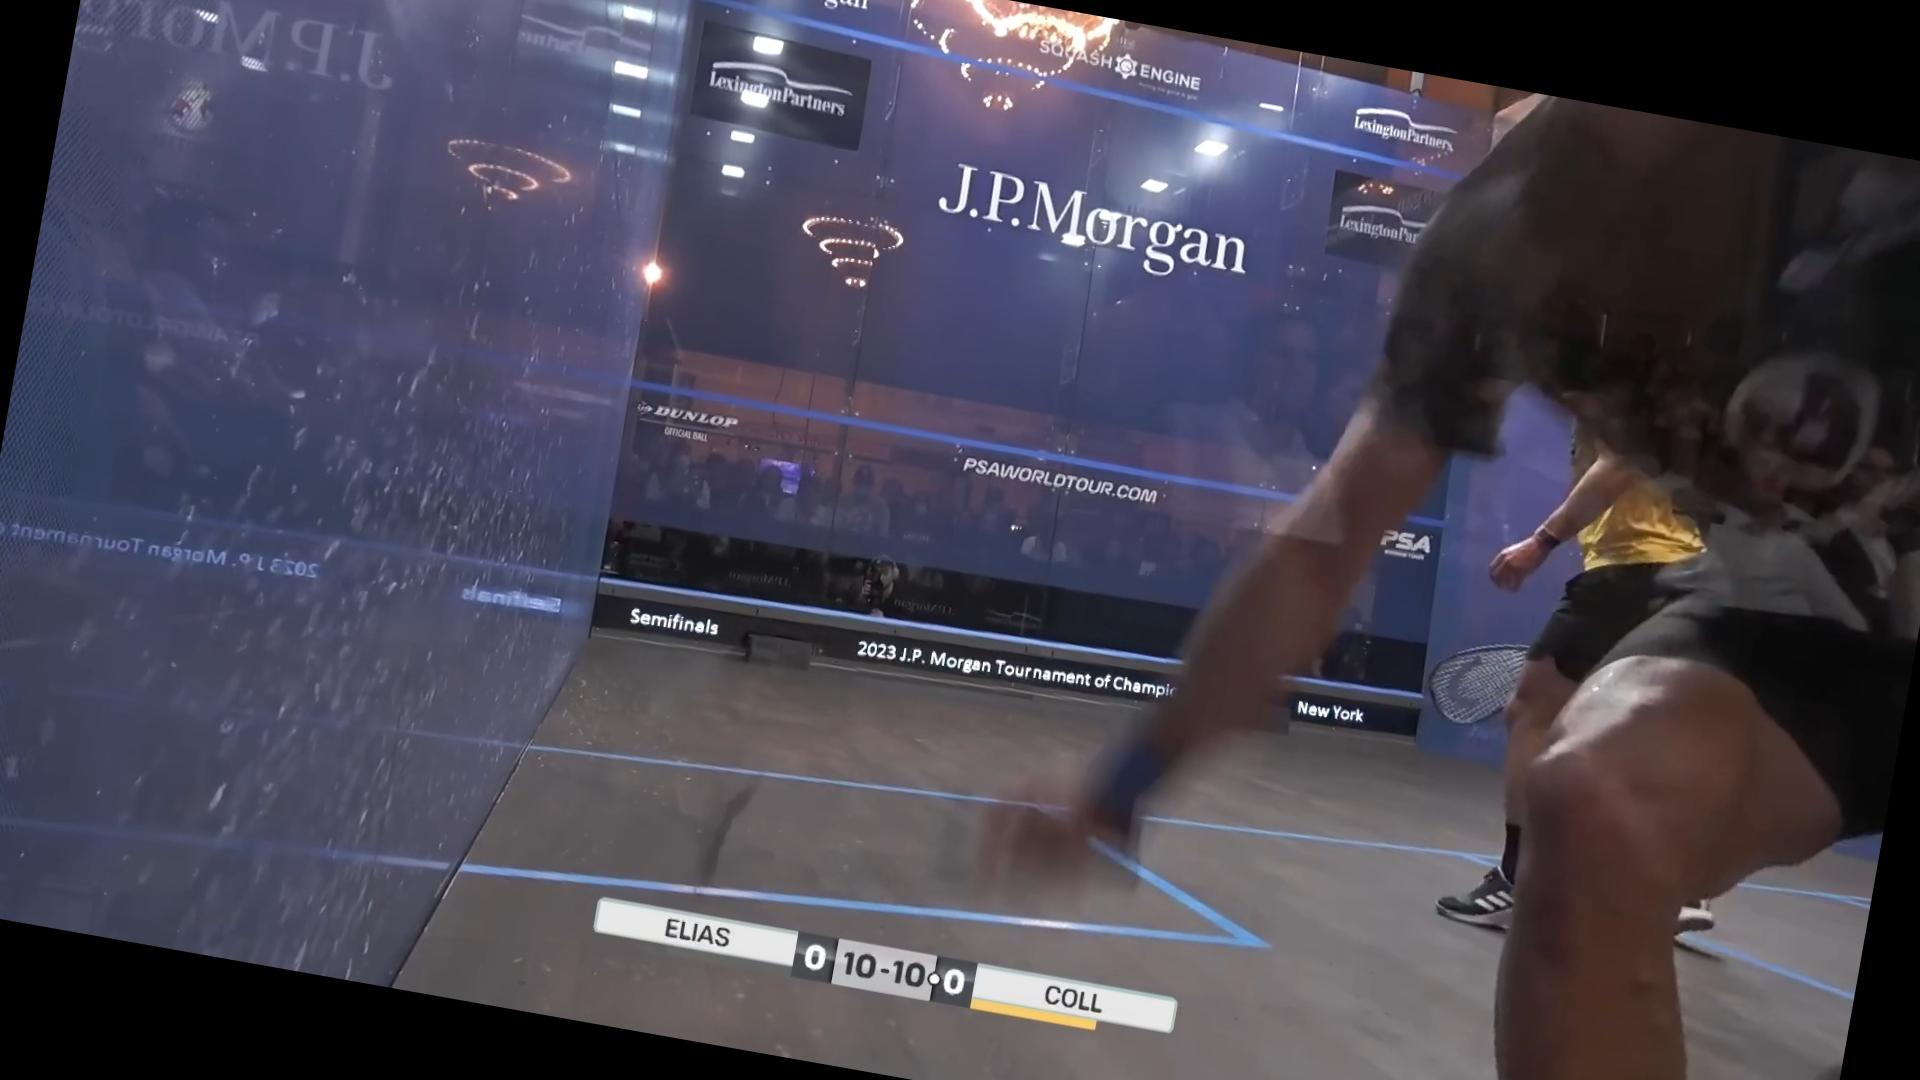Racket: (1407, 621, 1531, 742)
